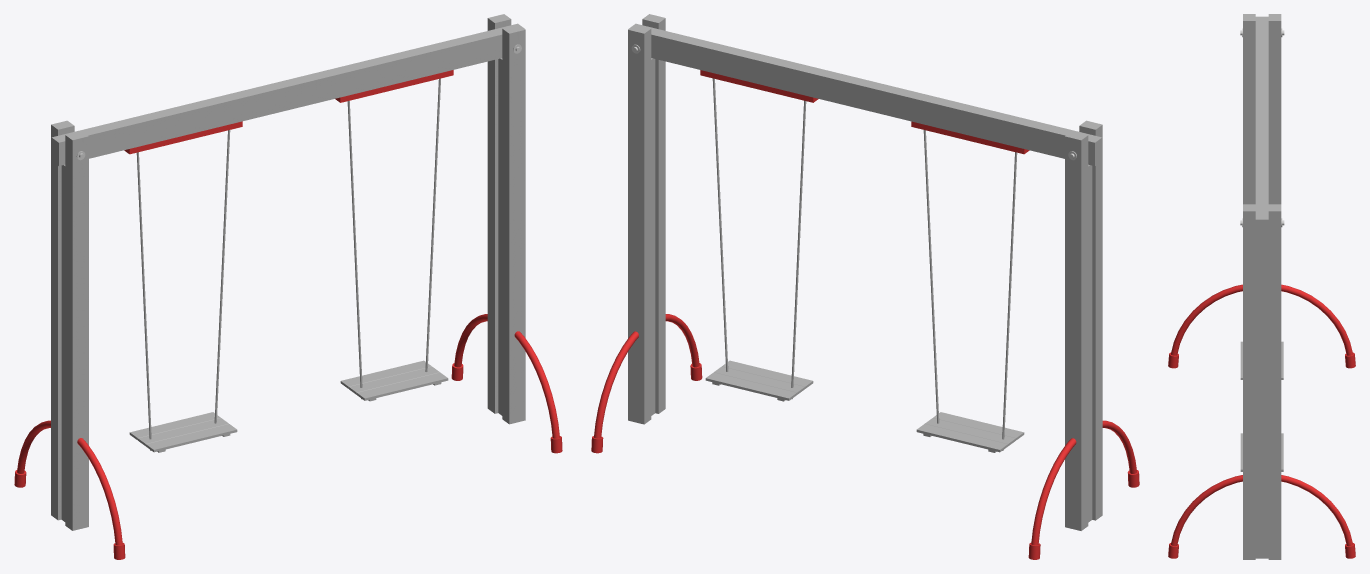
File: kacheli.fbx
The picture shows the model from 3 angles, left to right: view 1: azimuth 30°, elevation 25°; view 2: azimuth 150°, elevation 25°; view 3: azimuth 270°, elevation 25°; orthographic projection. The views are drawn at different scales.
Visible parts, largest first — view 1: Kacheli; view 2: Kacheli; view 3: Kacheli.
Part boxes in pixels (x1=…): Kacheli: x1=14, y1=14, x2=562, y2=559; Kacheli: x1=591, y1=14, x2=1139, y2=559; Kacheli: x1=1168, y1=14, x2=1355, y2=559.
Bounding box in the file's own units: 312 × 250 × 122.
